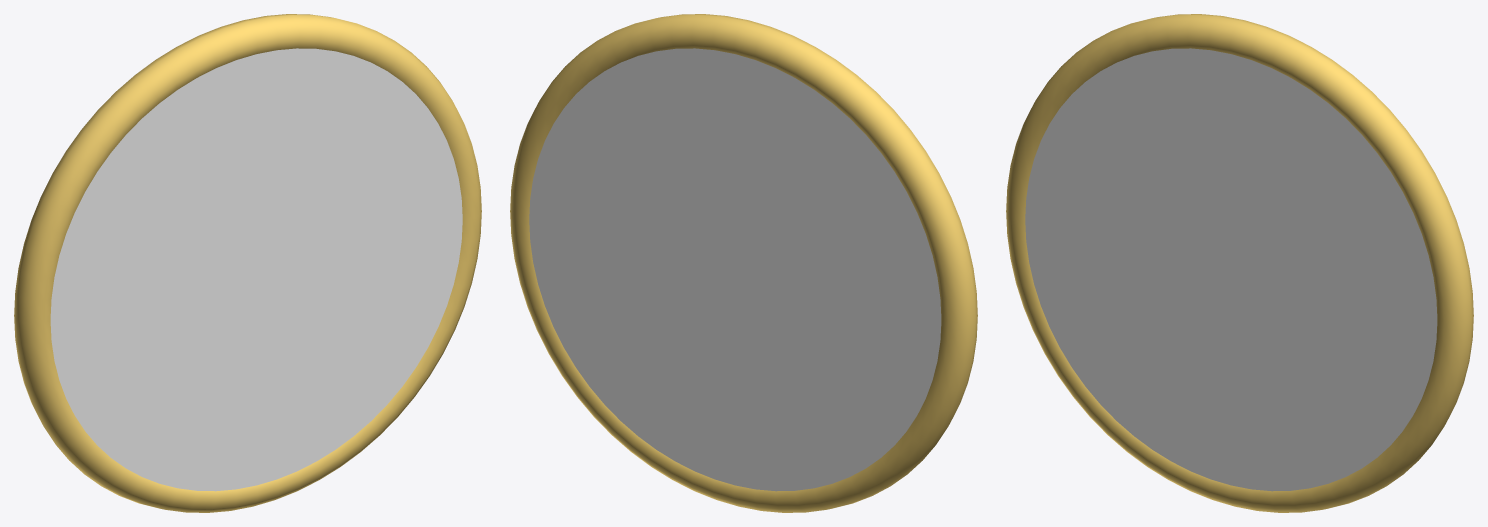
Rendered from coin.glb.
The picture shows the model from 3 angles, left to right: view 1: azimuth 30°, elevation 25°; view 2: azimuth 150°, elevation 25°; view 3: azimuth 330°, elevation 25°; orthographic projection.
Parts seen in each view (by area): view 1: Coin; view 2: Coin; view 3: Coin.
Part boxes in pixels (bbox=[...]): Coin: bbox=[14, 14, 481, 512]; Coin: bbox=[510, 14, 977, 512]; Coin: bbox=[1006, 14, 1473, 512].
Bounding box in the file's own units: 0.0216 × 0.0216 × 0.0016.
